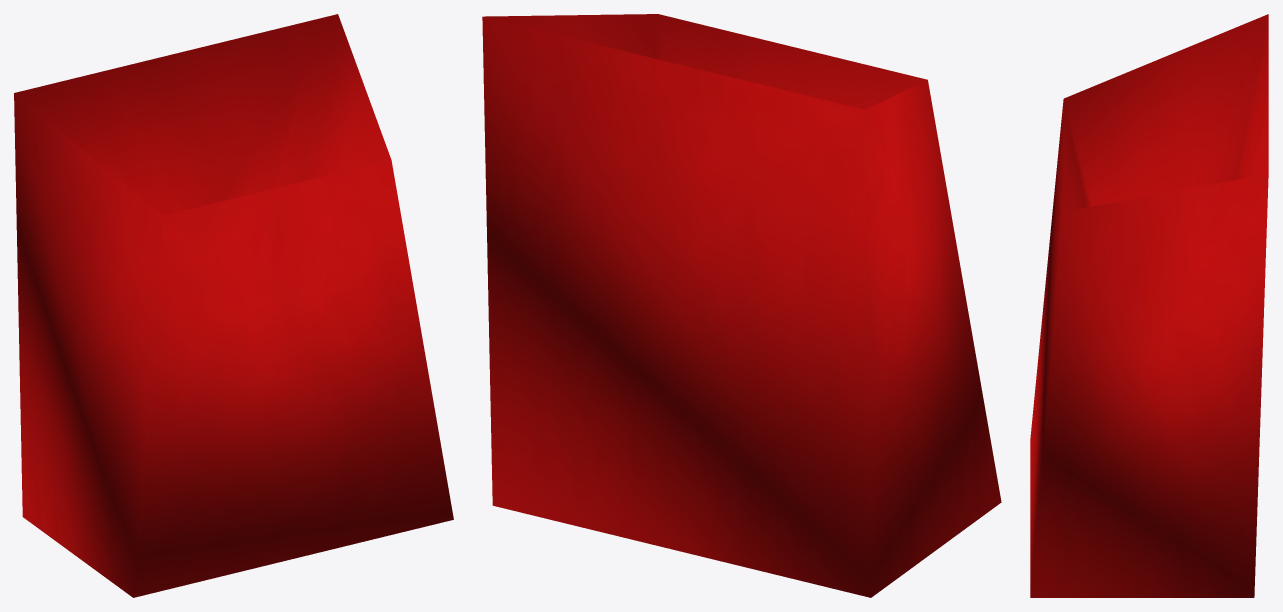
The model's file is fry_container.glb.
3 renders of one model, left to right at view 1: azimuth 30°, elevation 25°; view 2: azimuth 150°, elevation 25°; view 3: azimuth 270°, elevation 25°, orthographic. The views are drawn at different scales.
Parts seen in each view (by area): view 1: Fry_Container; view 2: Fry_Container; view 3: Fry_Container.
Part boxes in pixels (x1,y1,x2,y2): Fry_Container: [14, 14, 453, 597]; Fry_Container: [482, 14, 1001, 597]; Fry_Container: [1030, 14, 1268, 597].
Size of the model in its own units: 0.1645 by 0.2034 by 0.1034.
1 material, 1 textured.
